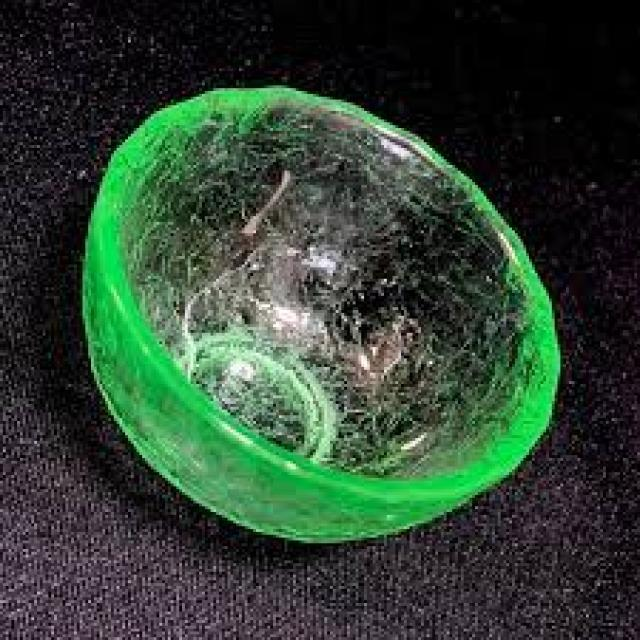Glass: (86, 83, 562, 543)
